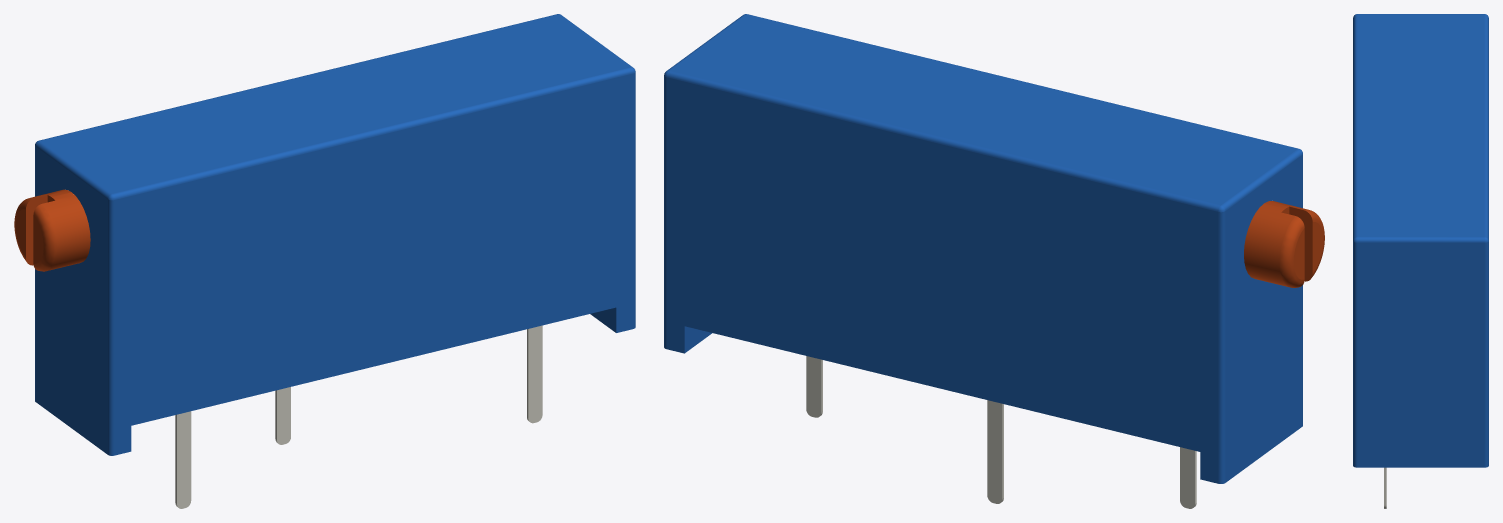
Rendered from kc-potentiometer_bourns_3009p_horizontal.glb.
3 renders of one model, left to right at view 1: azimuth 30°, elevation 25°; view 2: azimuth 150°, elevation 25°; view 3: azimuth 270°, elevation 25°, orthographic. The views are drawn at different scales.
Visible parts, largest first — view 1: 0_0.16666666666666666_0.5_0, 0.4166666666666667_0.08333333333333333_0_0, 0.6666666666666666_0.6666666666666666_0.5833333333333334_0.8; view 2: 0_0.16666666666666666_0.5_0, 0.4166666666666667_0.08333333333333333_0_0, 0.6666666666666666_0.6666666666666666_0.5833333333333334_0.8; view 3: 0_0.16666666666666666_0.5_0.
Part boxes in pixels (x1,y1,x2,y2): 0_0.16666666666666666_0.5_0: [35, 14, 635, 455]; 0.4166666666666667_0.08333333333333333_0_0: [14, 189, 90, 271]; 0.6666666666666666_0.6666666666666666_0.5833333333333334_0.8: [175, 325, 542, 508]; 0_0.16666666666666666_0.5_0: [664, 14, 1302, 483]; 0.4166666666666667_0.08333333333333333_0_0: [1244, 201, 1324, 287]; 0.6666666666666666_0.6666666666666666_0.5833333333333334_0.8: [806, 356, 1196, 508]; 0_0.16666666666666666_0.5_0: [1353, 14, 1488, 467].
Size of the model in its own units: 2.06 by 1.2 by 0.4831.
